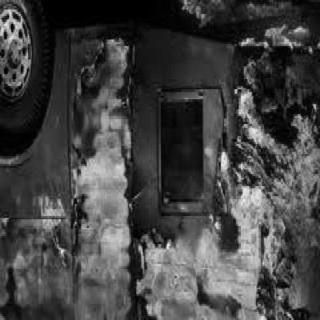Fire: (212, 90, 318, 258), (177, 4, 317, 56)
